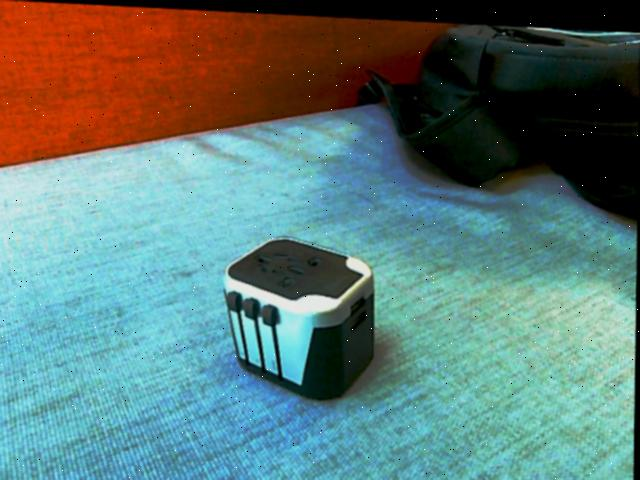adapter: (221, 231, 376, 398)
